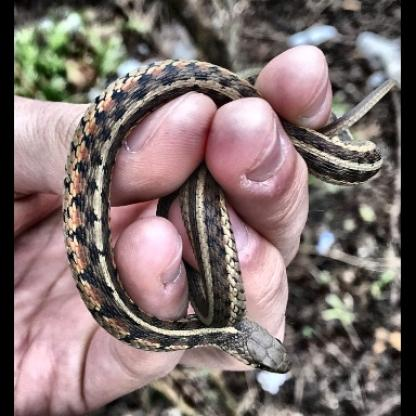Snake: (59, 51, 292, 372)
